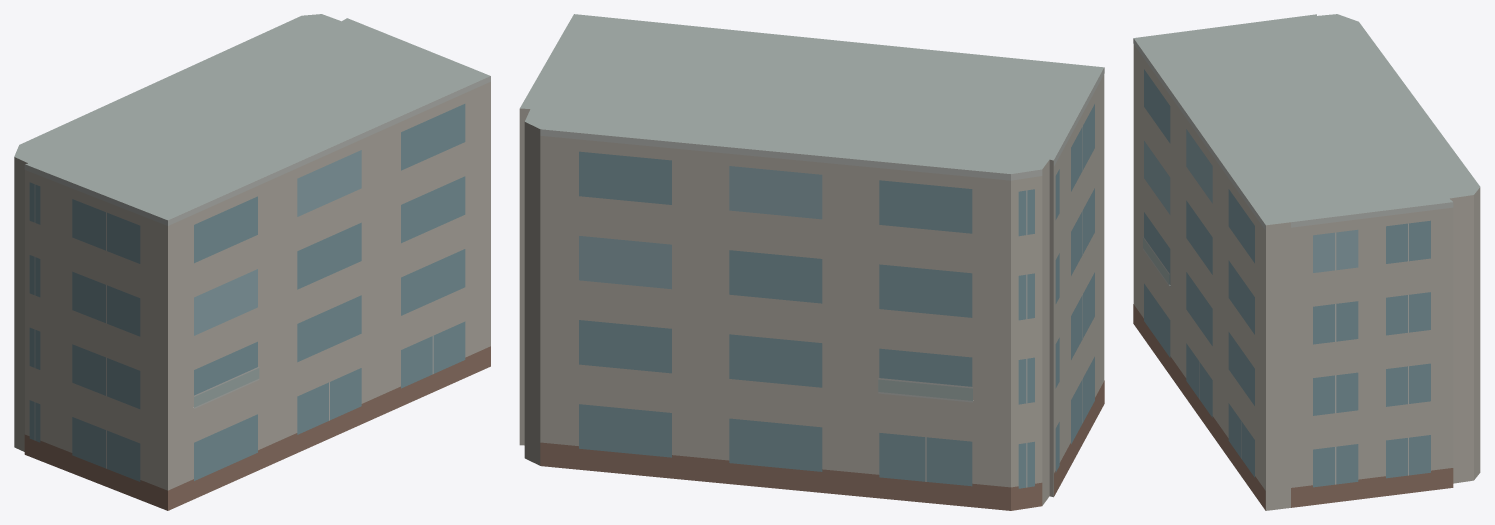
The model's file is survey-upis-32657769.glb.
The picture shows the model from 3 angles, left to right: view 1: azimuth 30°, elevation 25°; view 2: azimuth 150°, elevation 25°; view 3: azimuth 270°, elevation 25°; orthographic projection. The views are drawn at different scales.
Parts seen in each view (by area): view 1: survey-upis-32657769.tmp; view 2: survey-upis-32657769.tmp; view 3: survey-upis-32657769.tmp.
Boxes of the visible parts, bbox=[...] form: survey-upis-32657769.tmp: bbox=[14, 14, 490, 510]; survey-upis-32657769.tmp: bbox=[519, 14, 1104, 510]; survey-upis-32657769.tmp: bbox=[1133, 14, 1480, 510].
Bounding box in the file's own units: 20.07 × 12.65 × 13.94.
